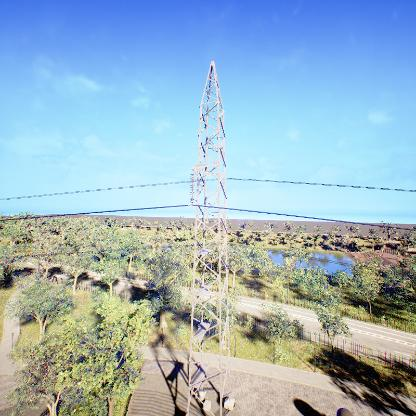tower: (186, 57, 234, 416)
